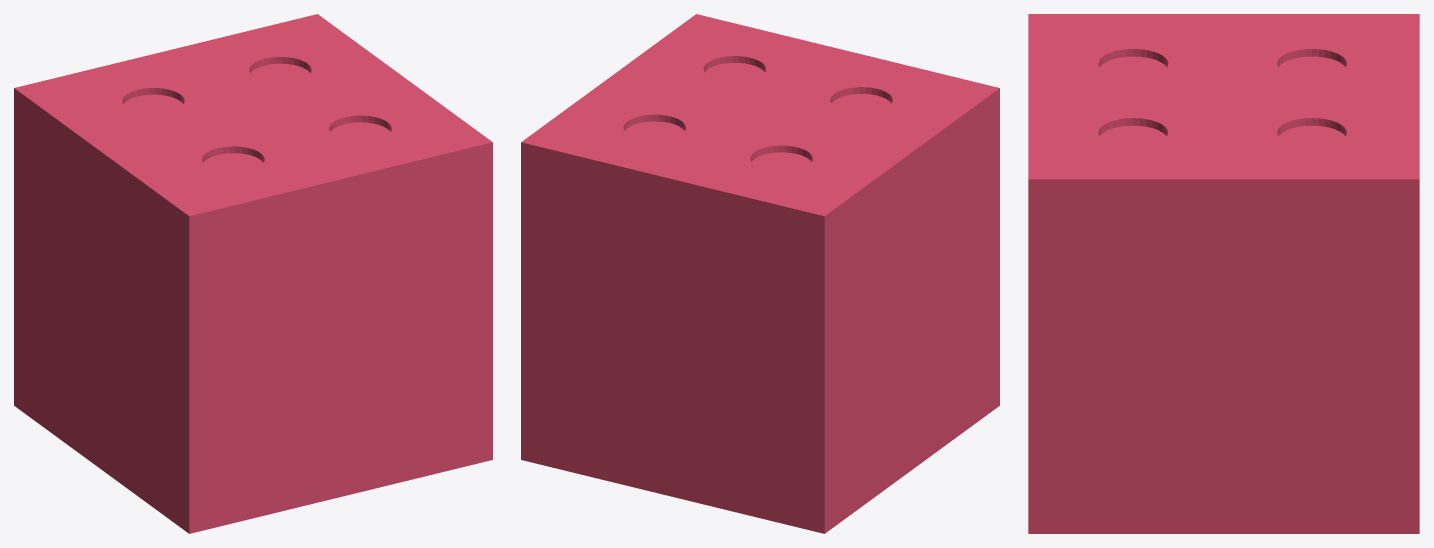
3 renders of one model, left to right at view 1: azimuth 30°, elevation 25°; view 2: azimuth 150°, elevation 25°; view 3: azimuth 270°, elevation 25°, orthographic. The views are drawn at different scales.
Visible parts, largest first — view 1: Cube; view 2: Cube; view 3: Cube.
Part boxes in pixels (x1,y1,x2,y2): Cube: (14,14,492,533); Cube: (521,14,999,533); Cube: (1028,14,1419,533).
Bounding box in the file's own units: 18.16 × 18.16 × 18.16.
